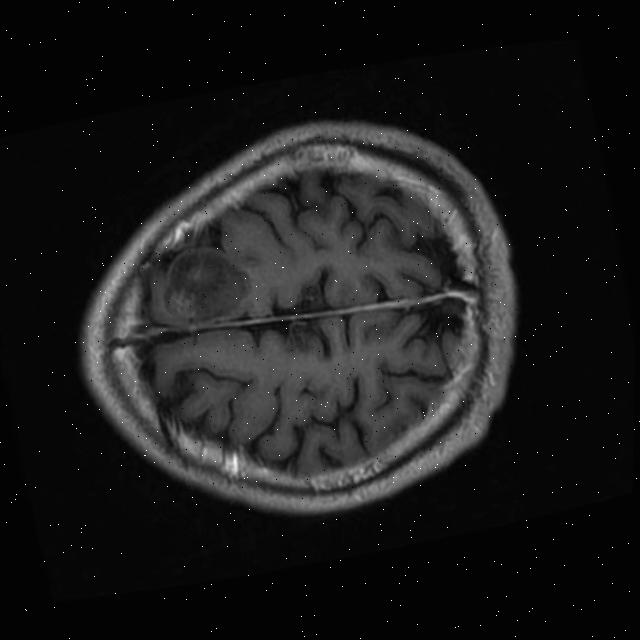Glioma: (152, 237, 256, 331)
